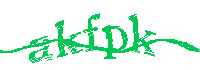a: (28, 34, 52, 64)
f: (83, 9, 101, 56)
k: (128, 11, 157, 58), (55, 16, 83, 59)
p: (101, 21, 127, 63)
